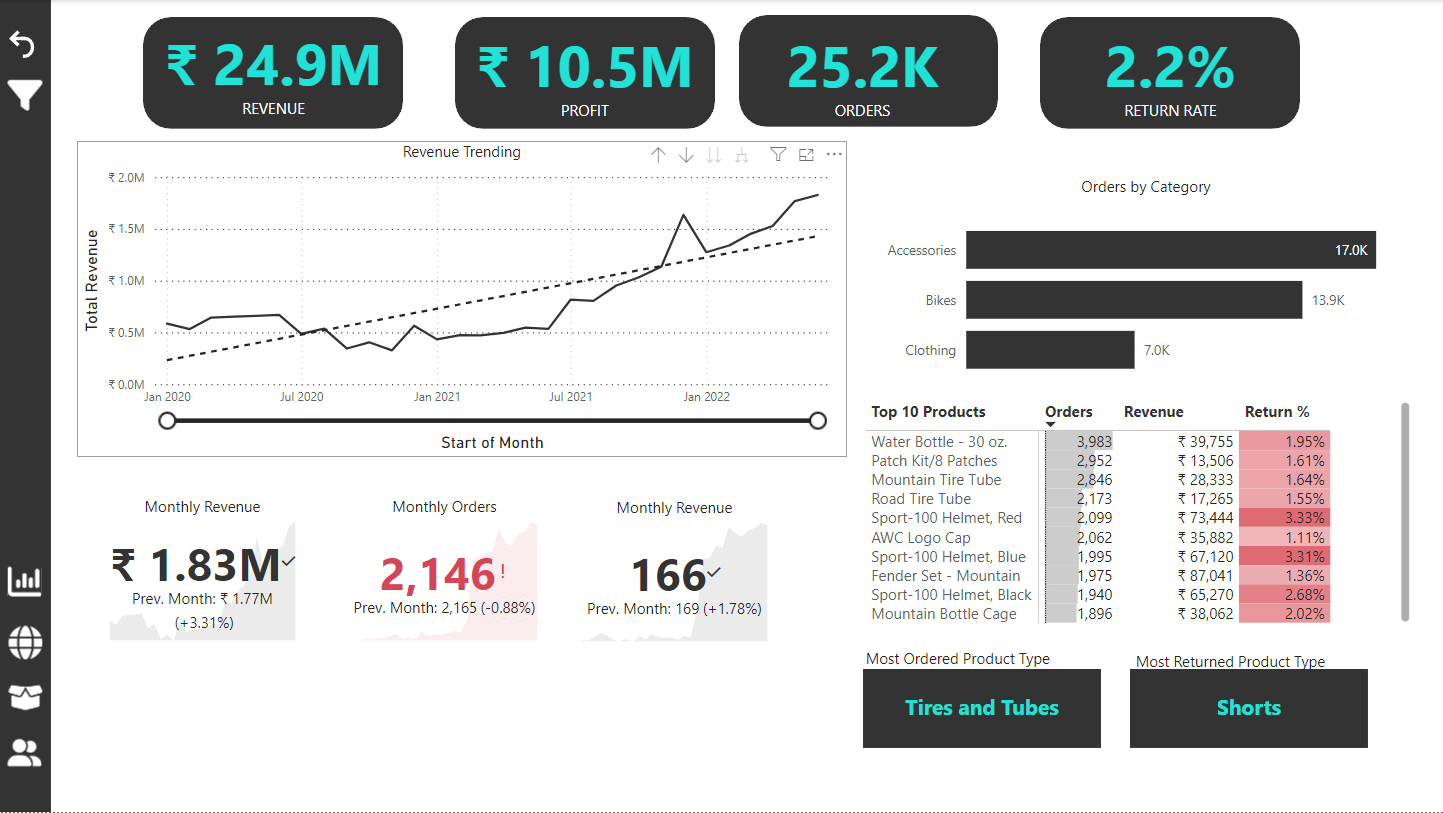

The page's visual inventory and layout, read from the dashboard file:
{"tool":"powerbi","page":{"name":"Exec Dashboard","canvas":[1280,720],"ordinal":0},"visuals":[{"type":"shape","box":[0,0,45,720],"z":0},{"type":"shape","box":[0,0,45,720],"z":0,"group":"g1"},{"type":"card","fields":{"Values":["Measure Table.Total Revenue"]},"box":[132.8,0,219,125],"z":0,"group":"g2"},{"type":"actionButton","box":[3,496.1,38.1,39.9],"z":0,"group":"g3"},{"type":"group","id":"g1","title":"KPI Background","box":[0,0,1152.7,720],"z":1000},{"type":"card","fields":{"Values":["Measure Table.Total Profit"]},"box":[414.9,1.9,207.5,125],"z":1000,"group":"g2"},{"type":"shape","box":[126.8,15.1,230.5,99.3],"z":1000,"group":"g1"},{"type":"actionButton","box":[3.9,550.2,38.1,39.9],"z":1000,"group":"g3"},{"type":"group","id":"g2","title":"KPI values","box":[132.8,0,1014.4,126.8],"z":2000},{"type":"card","fields":{"Values":["Measure Table.Total Orders"]},"box":[655.5,2.1,219,125],"z":2000,"group":"g2"},{"type":"shape","box":[403.4,15.1,230.5,99.3],"z":2000,"group":"g1"},{"type":"actionButton","box":[3.9,599,38.1,39.9],"z":2000,"group":"g3"},{"type":"card","fields":{"Values":["Measure Table.Return Rate"]},"box":[928.3,2.1,219,125],"z":3000,"group":"g2"},{"type":"shape","box":[655.3,13.3,229.7,99.3],"z":3000,"group":"g1"},{"type":"lineChart","title":"Revenue Trending","fields":{"Y":["Measure Table.Total Revenue"],"Category":["Calendar Lookup.Year","Calendar Lookup.Start of Quarter","Calendar Lookup.Start of Month"]},"box":[68.3,125,682.8,280.2],"z":3000},{"type":"actionButton","box":[3,647.7,38.1,39.9],"z":3000,"group":"g3"},{"type":"shape","box":[922.2,15.1,230.5,99.3],"z":4000,"group":"g1"},{"type":"kpi","title":"Monthly Revenue","fields":{"Indicator":["Measure Table.Total Revenue"],"TrendLine":["Calendar Lookup.Start of Month"],"Goal":["Measure Table.Previous Month Revenue"]},"box":[92.2,439.8,174.7,133],"z":4000},{"type":"kpi","title":"Monthly Orders","fields":{"TrendLine":["Calendar Lookup.Start of Month"],"Indicator":["Measure Table.Total Orders"],"Goal":["Measure Table.Previous Month Orders"]},"box":[306.8,439.8,174.7,133],"z":5000},{"type":"kpi","title":"Monthly Revenue","fields":{"TrendLine":["Calendar Lookup.Start of Month"],"Indicator":["Measure Table.Total Returns"],"Goal":["Measure Table.Previous Month Returns"]},"box":[510.7,440.7,174.7,133],"z":6000},{"type":"clusteredBarChart","title":"Orders by Category","fields":{"Category":["Product Categories Lookup.CategoryName"],"Y":["Measure Table.Total Orders"]},"box":[776.7,156.1,478.8,195.1],"z":7000},{"type":"pivotTable","fields":{"Rows":["Product Lookup.ProductName"],"Values":["Measure Table.Total Orders","Measure Table.Total Revenue","Measure Table.Return Rate"]},"box":[762.6,351.1,493,205.7],"z":8000},{"type":"card","fields":{"Values":["Min(Product Subcategories Lookup.SubcategoryName)"]},"box":[765.2,593.2,211,70],"z":9000},{"type":"textbox","box":[762.6,570.1,198.6,45.2],"z":10000},{"type":"card","fields":{"Values":["Min(Product Subcategories Lookup.SubcategoryName)"]},"box":[1002,593.2,211,70],"z":11000},{"type":"textbox","box":[1002,572.8,211,31],"z":12000},{"type":"actionButton","box":[2.7,22.2,39,33.7],"z":13000},{"type":"group","id":"g3","title":"Navigation Buttons","box":[3,496.1,39,191.5],"z":14000},{"type":"actionButton","box":[2.7,63,39,42.6],"z":15000}]}

Visuals, with their boxes on the page's 1280x720 design canvas (x1, y1, x2, y2). These are canvas units, not pixel positions in the 1443x813 screenshot, which may show the page scaled, cropped or inside an application window:
shape: detection(0, 0, 45, 720)
shape: detection(0, 0, 45, 720)
card - Measure Table.Total Revenue: detection(133, 0, 352, 125)
actionButton: detection(3, 496, 41, 536)
"KPI Background" group: detection(0, 0, 1153, 720)
card - Measure Table.Total Profit: detection(415, 2, 622, 127)
shape: detection(127, 15, 357, 114)
actionButton: detection(4, 550, 42, 590)
"KPI values" group: detection(133, 0, 1147, 127)
card - Measure Table.Total Orders: detection(656, 2, 874, 127)
shape: detection(403, 15, 634, 114)
actionButton: detection(4, 599, 42, 639)
card - Measure Table.Return Rate: detection(928, 2, 1147, 127)
shape: detection(655, 13, 885, 113)
"Revenue Trending" lineChart: detection(68, 125, 751, 405)
actionButton: detection(3, 648, 41, 688)
shape: detection(922, 15, 1153, 114)
"Monthly Revenue" kpi: detection(92, 440, 267, 573)
"Monthly Orders" kpi: detection(307, 440, 482, 573)
"Monthly Revenue" kpi: detection(511, 441, 685, 574)
"Orders by Category" clusteredBarChart: detection(777, 156, 1256, 351)
pivotTable - Product Lookup.ProductName x Measure Table.Total Orders: detection(763, 351, 1256, 557)
card - Min(Product Subcategories Lookup.SubcategoryName): detection(765, 593, 976, 663)
textbox: detection(763, 570, 961, 615)
card - Min(Product Subcategories Lookup.SubcategoryName): detection(1002, 593, 1213, 663)
textbox: detection(1002, 573, 1213, 604)
actionButton: detection(3, 22, 42, 56)
"Navigation Buttons" group: detection(3, 496, 42, 688)
actionButton: detection(3, 63, 42, 106)
